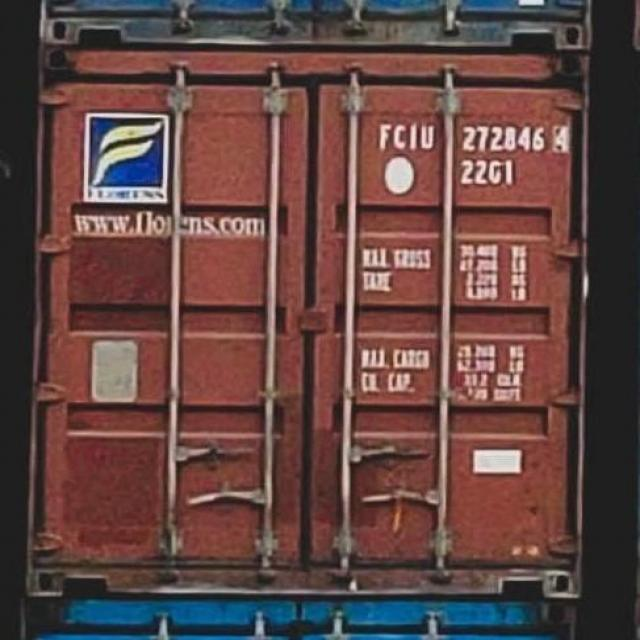ISO: (461, 160, 520, 187)
container_number: (386, 120, 564, 156)
